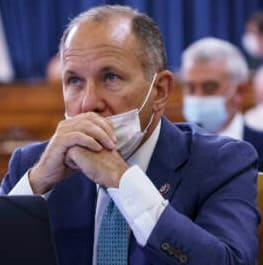with_incorrect_mask: (62, 32, 156, 154)
